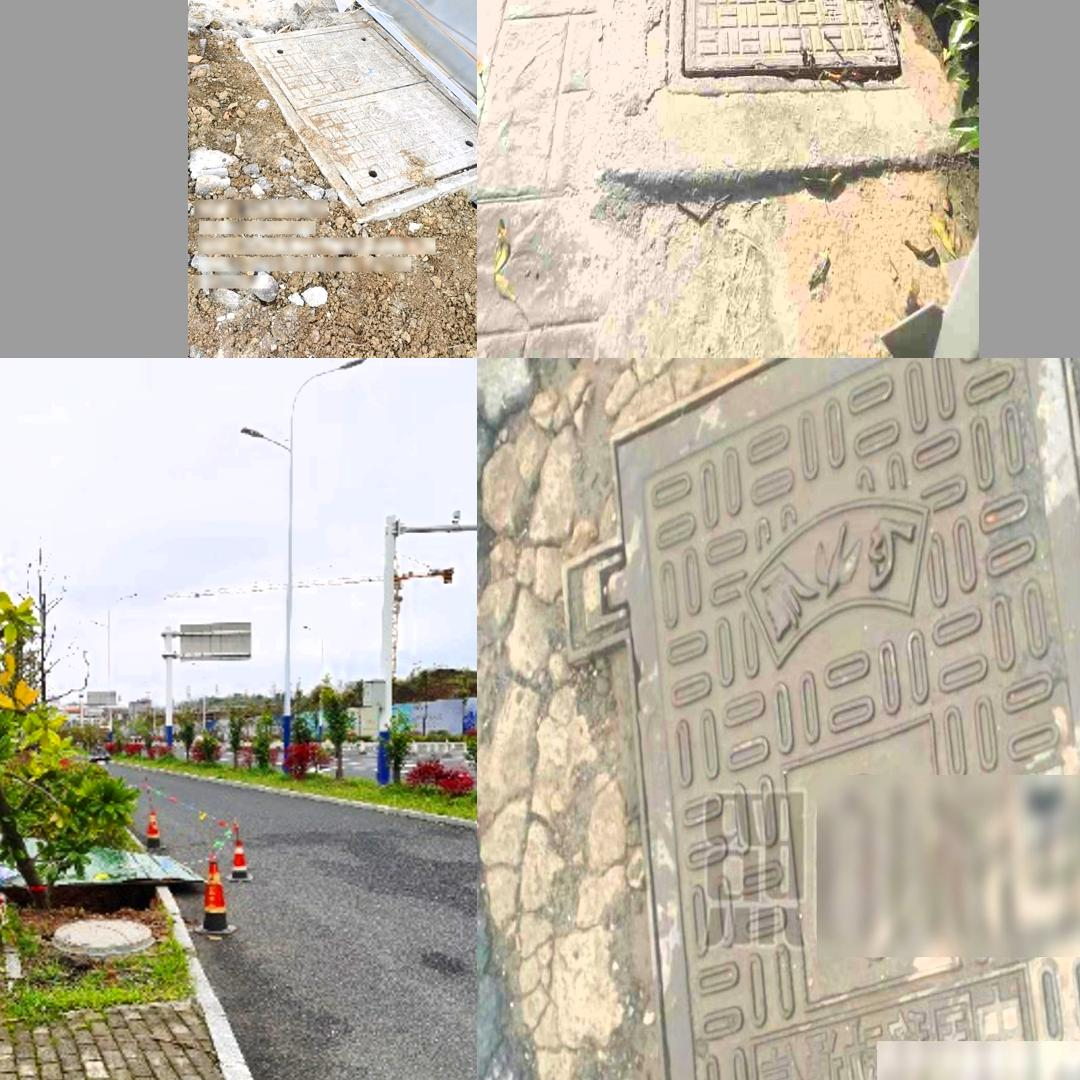good: (560, 362, 1080, 1080), (243, 23, 475, 220), (665, 0, 912, 88)
